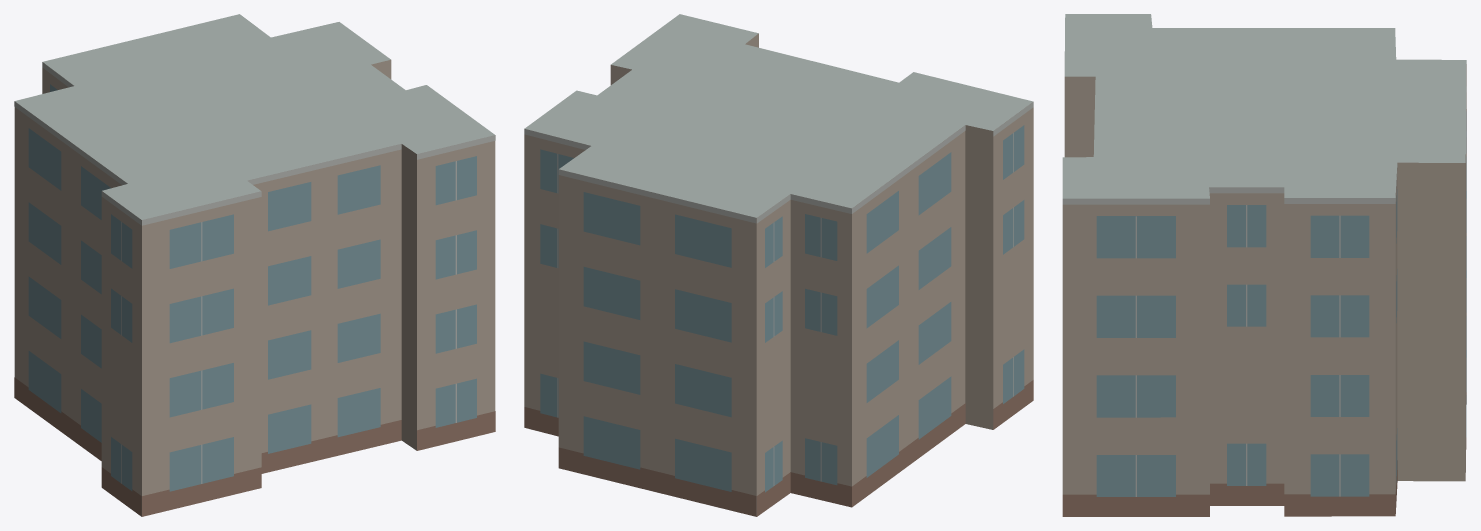
Rendered from survey-upis-32909387.glb.
3 views of the same model, side by side, from view 1: azimuth 30°, elevation 25°; view 2: azimuth 150°, elevation 25°; view 3: azimuth 270°, elevation 25° (orthographic). The views are drawn at different scales.
Visible parts, largest first — view 1: survey-upis-32909387.tmp; view 2: survey-upis-32909387.tmp; view 3: survey-upis-32909387.tmp.
Part boxes in pixels (x1=…): survey-upis-32909387.tmp: x1=14, y1=14, x2=495, y2=516; survey-upis-32909387.tmp: x1=524, y1=14, x2=1033, y2=516; survey-upis-32909387.tmp: x1=1062, y1=14, x2=1466, y2=516.
Size of the model in its own units: 15.92 by 12.8 by 14.74.
